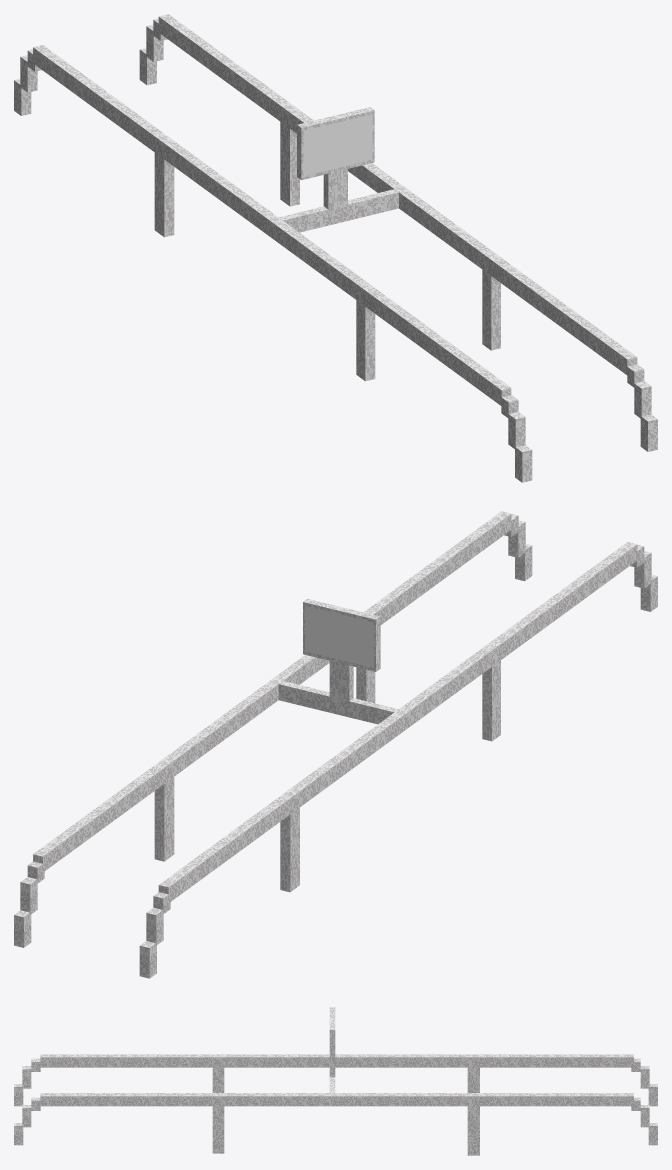
The model's file is BGN_SHOPPIN CART SIT.fbx.
3 views of the same model, one above another, from view 1: azimuth 30°, elevation 25°; view 2: azimuth 150°, elevation 25°; view 3: azimuth 270°, elevation 25° (orthographic). The views are drawn at different scales.
Visible parts, largest first — view 1: BGN_SHOPPIN_CART_SIT; view 2: BGN_SHOPPIN_CART_SIT; view 3: BGN_SHOPPIN_CART_SIT.
Part boxes in pixels (box(x1,y1,x2,y2)): BGN_SHOPPIN_CART_SIT: box(14, 14, 657, 482); BGN_SHOPPIN_CART_SIT: box(14, 511, 657, 978); BGN_SHOPPIN_CART_SIT: box(14, 1007, 657, 1155).
Size of the model in its own units: 141 by 181 by 914.
